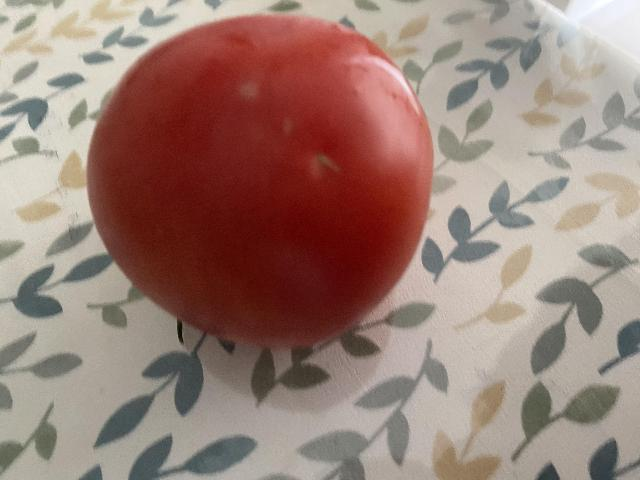Organik: (68, 16, 437, 346)
